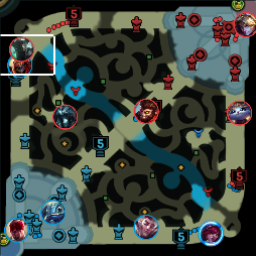ezreal: (232, 12, 256, 37)
fizz: (40, 199, 64, 223)
karthus: (52, 104, 77, 129)
leesin: (4, 218, 29, 242)
monkeyking: (133, 97, 158, 123)
mordekaiser: (9, 36, 34, 61)
rakan: (133, 214, 158, 239)
xayah: (199, 221, 223, 245)
yuumi: (227, 100, 251, 125)
zed: (5, 53, 32, 78)
